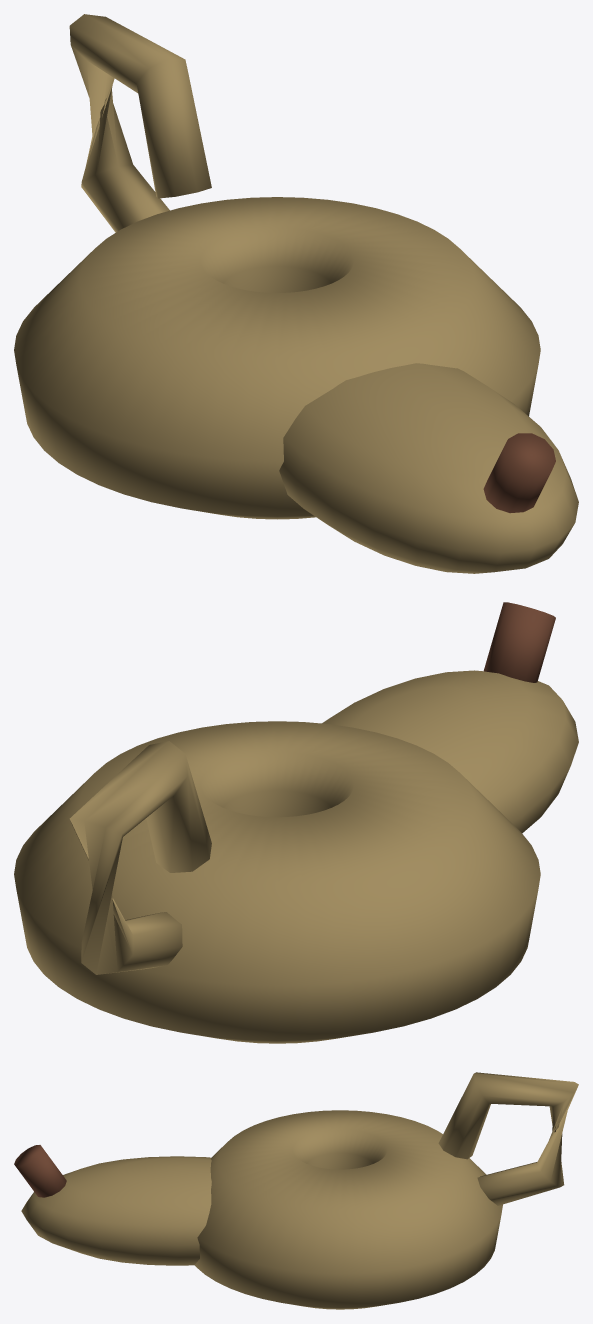
The model's file is oil-lamp.glb.
3 renders of one model, top to bottom at view 1: azimuth 30°, elevation 25°; view 2: azimuth 150°, elevation 25°; view 3: azimuth 270°, elevation 25°, orthographic. The views are drawn at different scales.
Visible parts, largest first — view 1: oil-lamp__bronze, oil-lamp__slip; view 2: oil-lamp__bronze, oil-lamp__slip; view 3: oil-lamp__bronze, oil-lamp__slip.
Part boxes in pixels (x1,y1,x2,y2): oil-lamp__bronze: (14, 14, 578, 573); oil-lamp__slip: (483, 433, 555, 513); oil-lamp__bronze: (14, 670, 578, 1043); oil-lamp__slip: (483, 602, 555, 682); oil-lamp__bronze: (21, 1072, 578, 1309); oil-lamp__slip: (14, 1145, 66, 1197).
Size of the model in its own units: 0.48 by 0.3435 by 0.8328.
